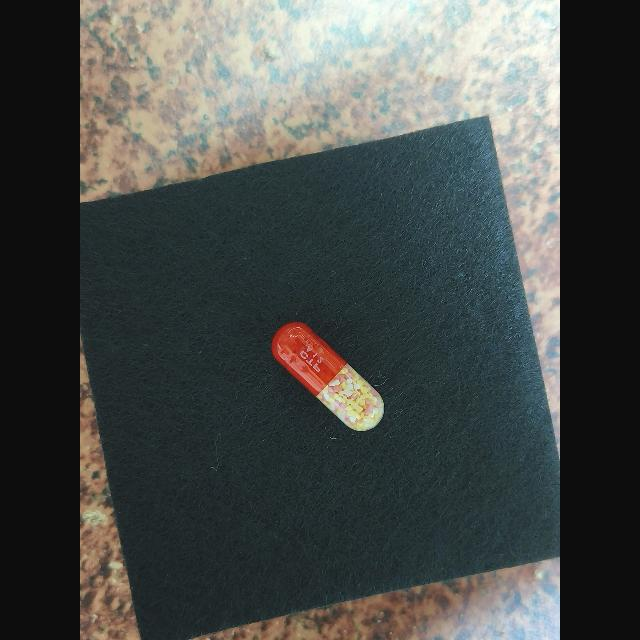Intact Capsule: (271, 322, 384, 431)
